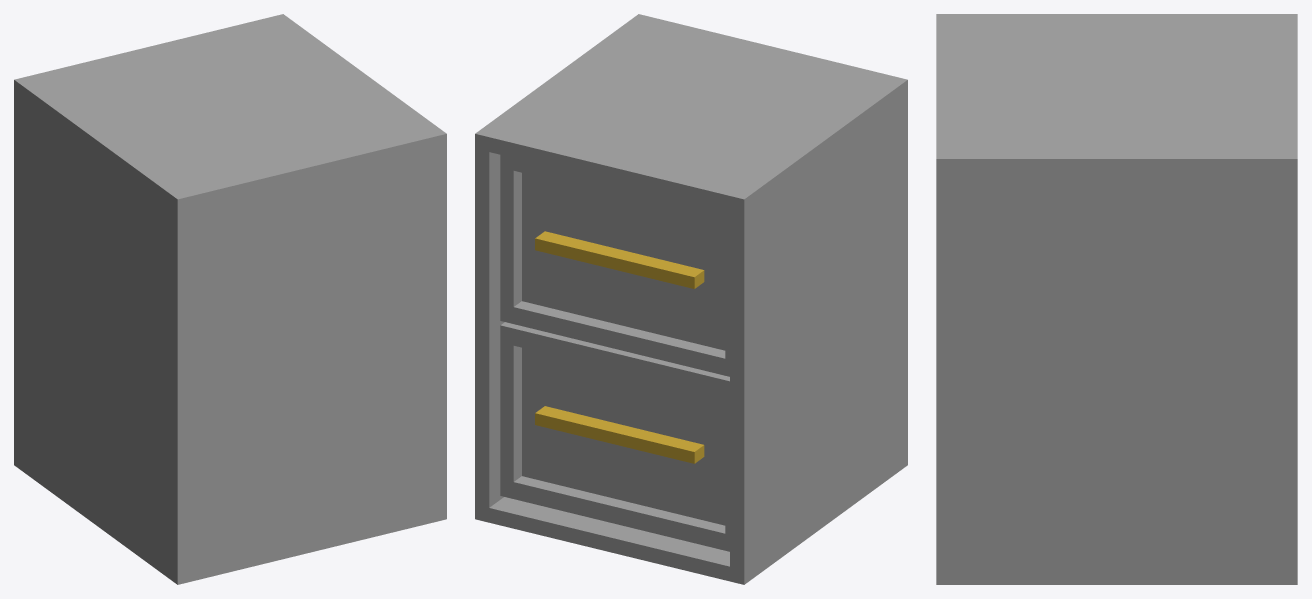
The model's file is Blockout_Dresser_02 1.fbx.
3 renders of one model, left to right at view 1: azimuth 30°, elevation 25°; view 2: azimuth 150°, elevation 25°; view 3: azimuth 270°, elevation 25°, orthographic. The views are drawn at different scales.
Visible parts, largest first — view 1: Dresser_unit_02; view 2: Dresser_unit_02, Dresser_Drawer_01, Dresser_Drawer_02; view 3: Dresser_unit_02.
Part boxes in pixels (left/top/right/bottom): Dresser_unit_02: left=14, top=14, right=446, bottom=584; Dresser_unit_02: left=475, top=14, right=907, bottom=584; Dresser_Drawer_01: left=500, top=322, right=729, bottom=551; Dresser_Drawer_02: left=500, top=155, right=729, bottom=376; Dresser_unit_02: left=936, top=14, right=1297, bottom=584.
Size of the model in its own units: 47.5 by 65 by 50.
